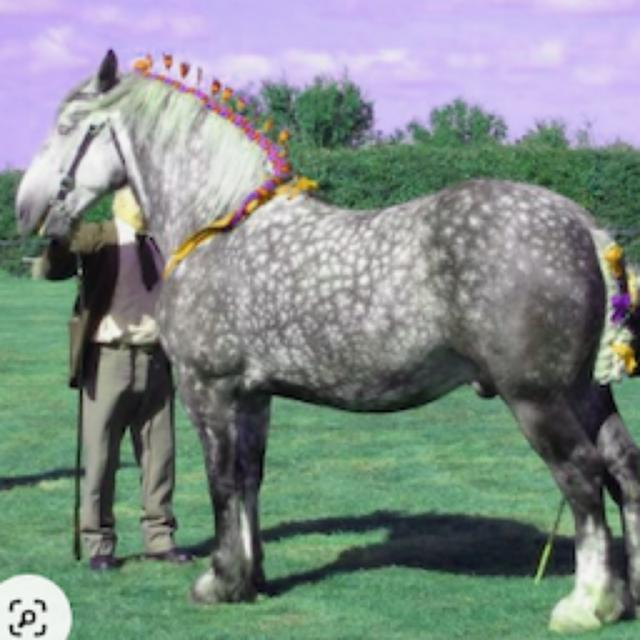Horse: (10, 42, 640, 636)
